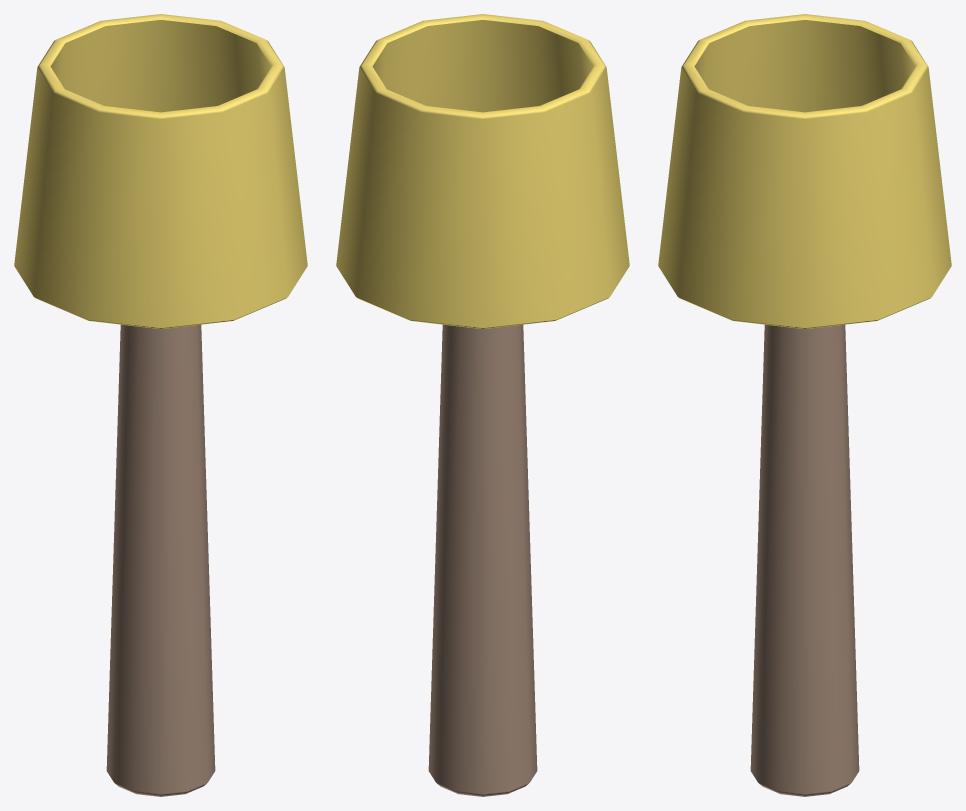
Rendered from Lamp_1.glb.
3 views of the same model, side by side, from view 1: azimuth 30°, elevation 25°; view 2: azimuth 150°, elevation 25°; view 3: azimuth 270°, elevation 25° (orthographic).
Parts seen in each view (by area): view 1: Lamp_1; view 2: Lamp_1; view 3: Lamp_1.
Part boxes in pixels (<box>): Lamp_1: <box>14,14,307,796</box>; Lamp_1: <box>336,14,629,796</box>; Lamp_1: <box>658,14,951,796</box>.
Size of the model in its own units: 0.5909 by 1.59 by 0.5909.
2 materials, 1 textured.
